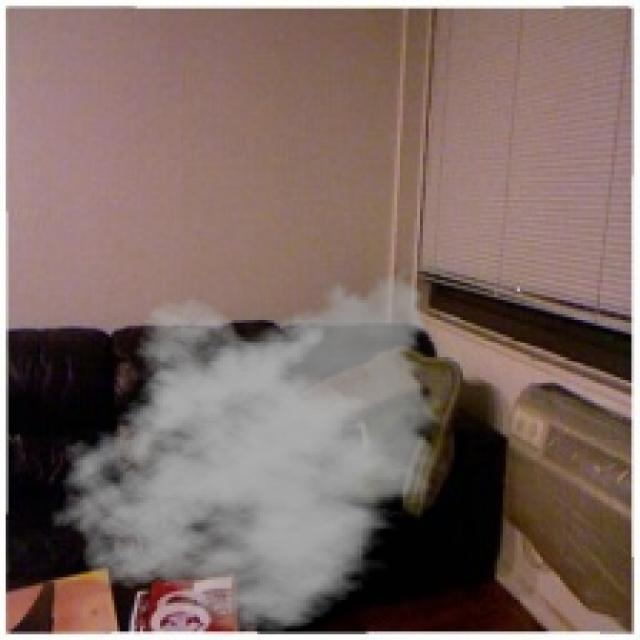smoke: (49, 260, 448, 634)
